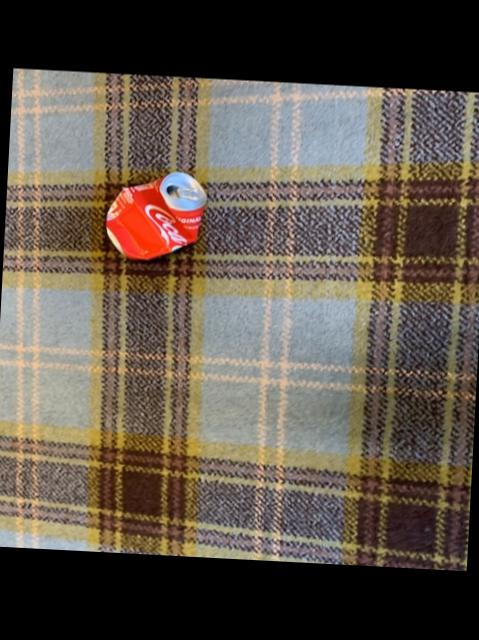metal: (107, 171, 206, 258)
